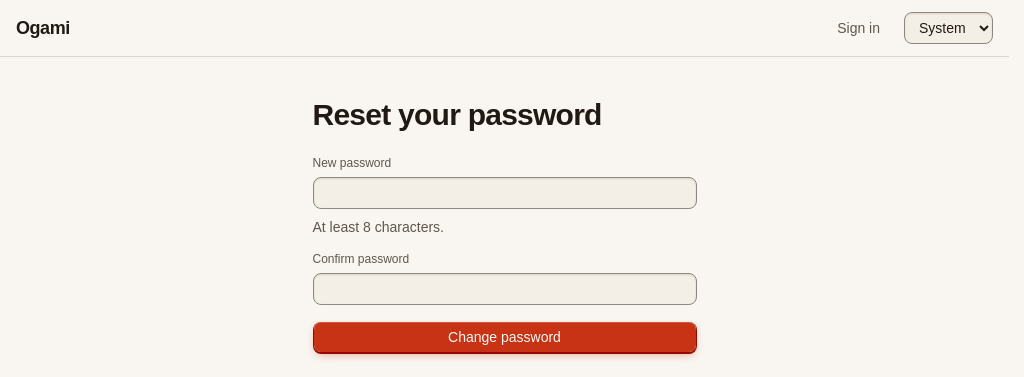
Test: ResetPasswordPage › changes the password with the token from the fragment
The image size is (1024, 377).
Expected: the heading "Reset your password" is shown, x1=312 y1=98 x2=602 y2=131
Type "a-new-password" into the password field labelled "New password" at coordinates (504, 193), box x1=312 y1=177 x2=696 y2=209
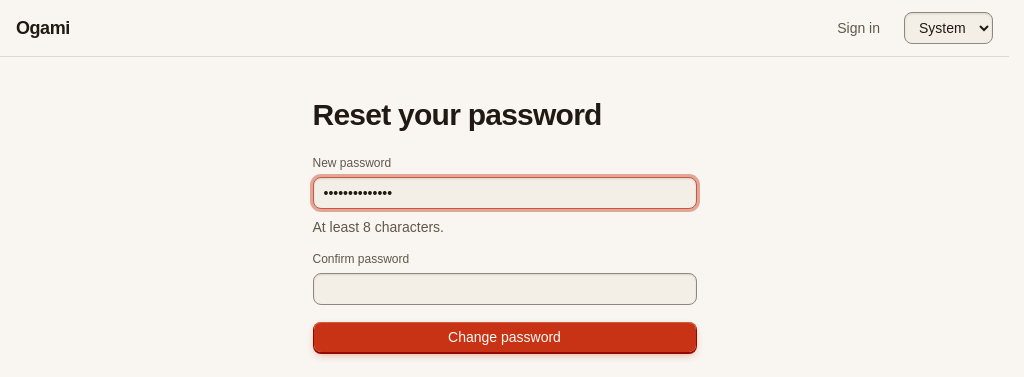
Type "a-new-password" into the password field labelled "Confirm password" at coordinates (504, 289), box x1=312 y1=273 x2=696 y2=305
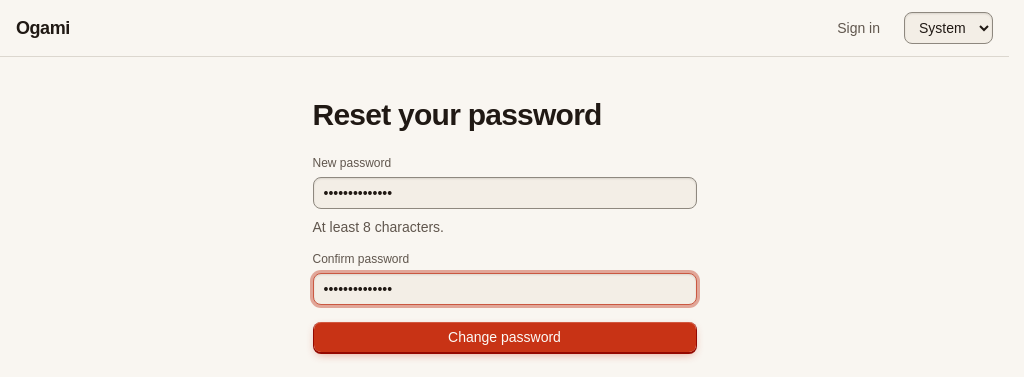
Click the button "Change password" at coordinates (504, 337), box x1=312 y1=321 x2=696 y2=353
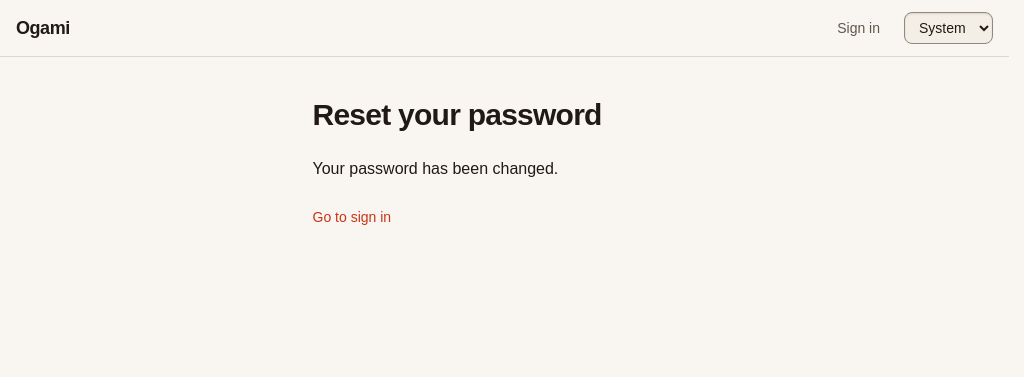
Expected: the text "Your password has been changed." is shown, x1=312 y1=160 x2=558 y2=177
